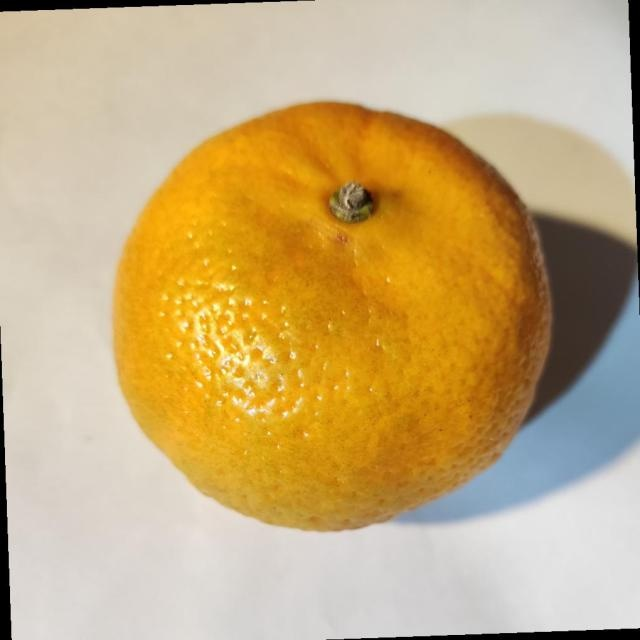agrume: (111, 99, 554, 532)
